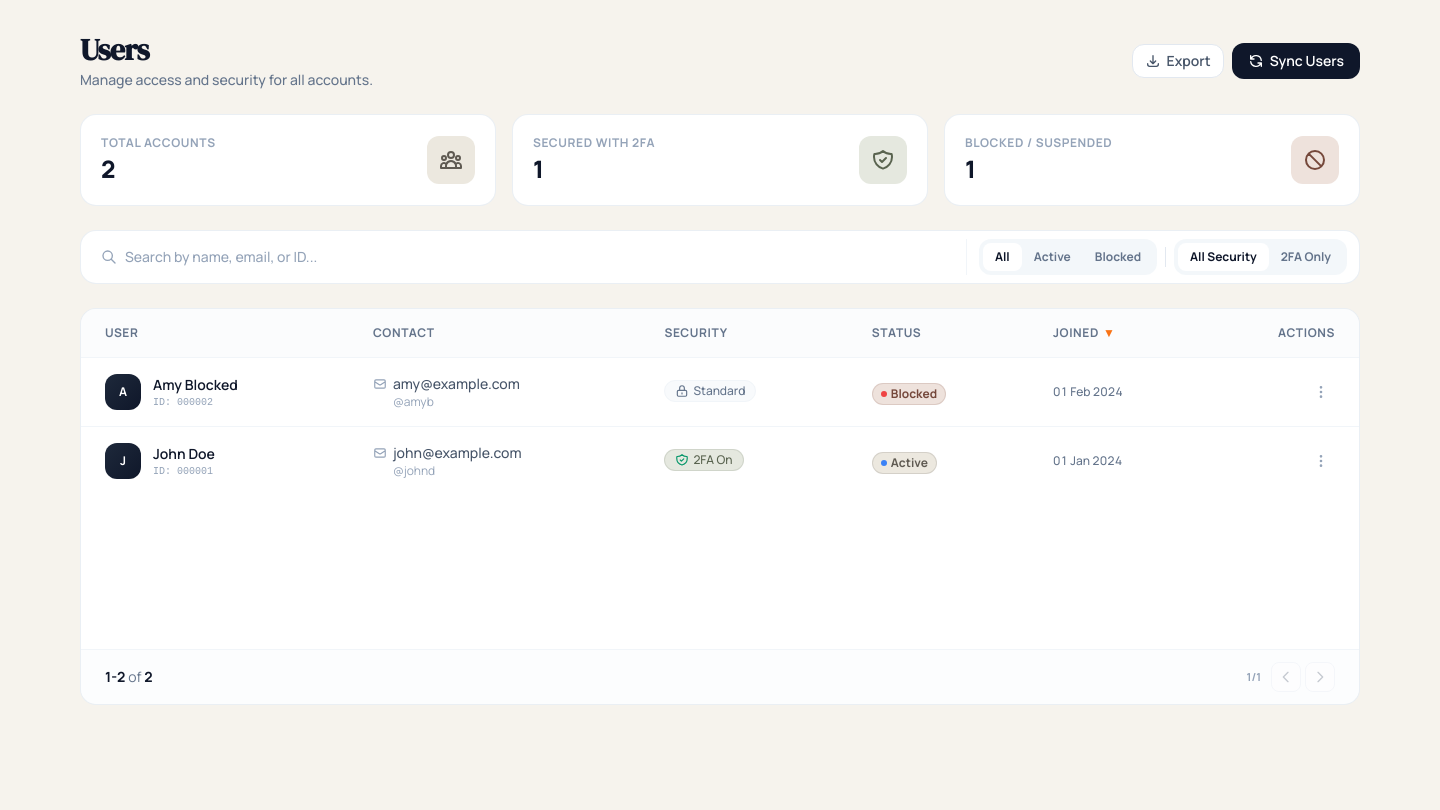
Test: AdminUsers Component › shows an error toast when the block action fails
Step 1. Click the button without text in the row of "John Doe" → (1321, 461), box 1307,447 -> 1335,475
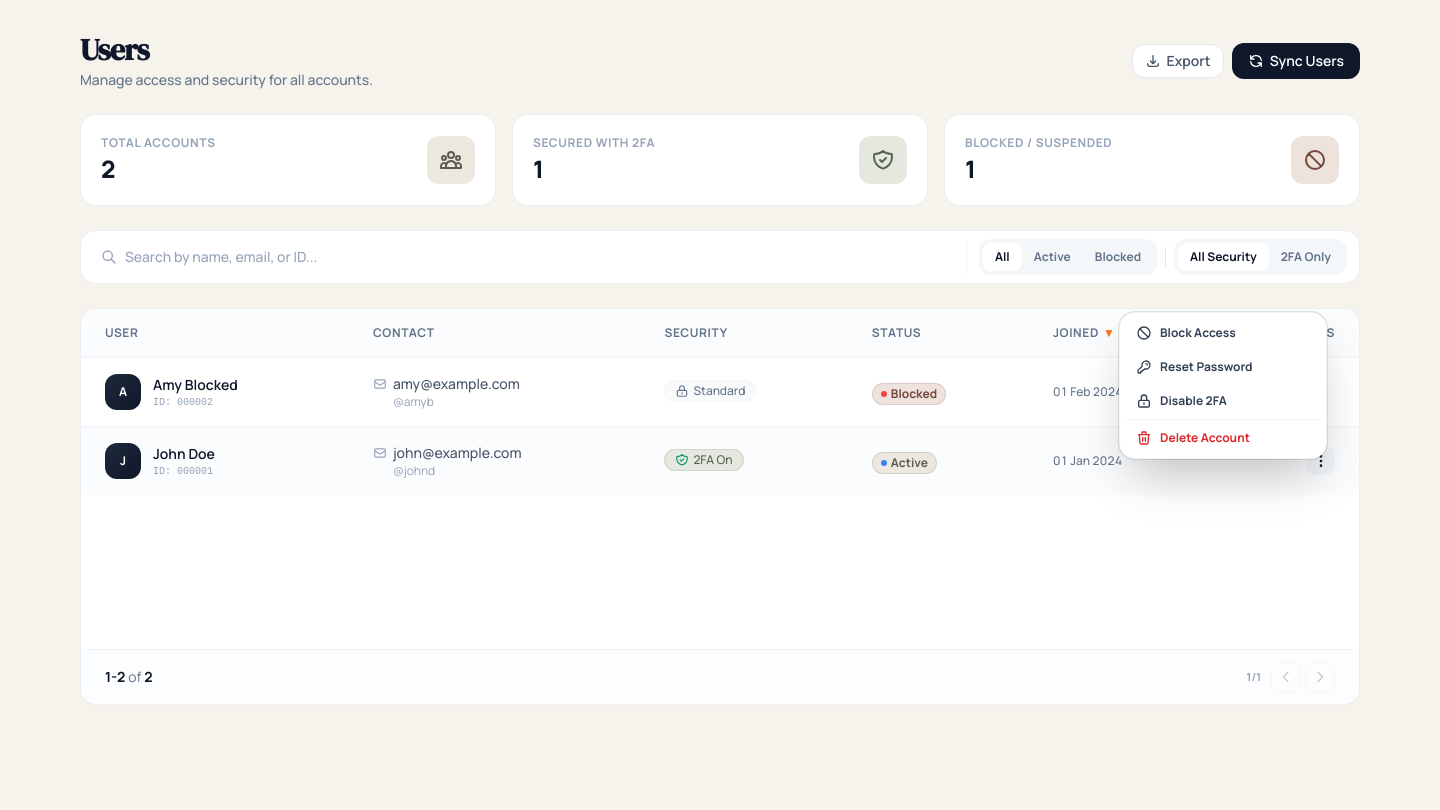
Step 2. Click the button "Block Access" → (1223, 333), box 1124,317 -> 1322,349
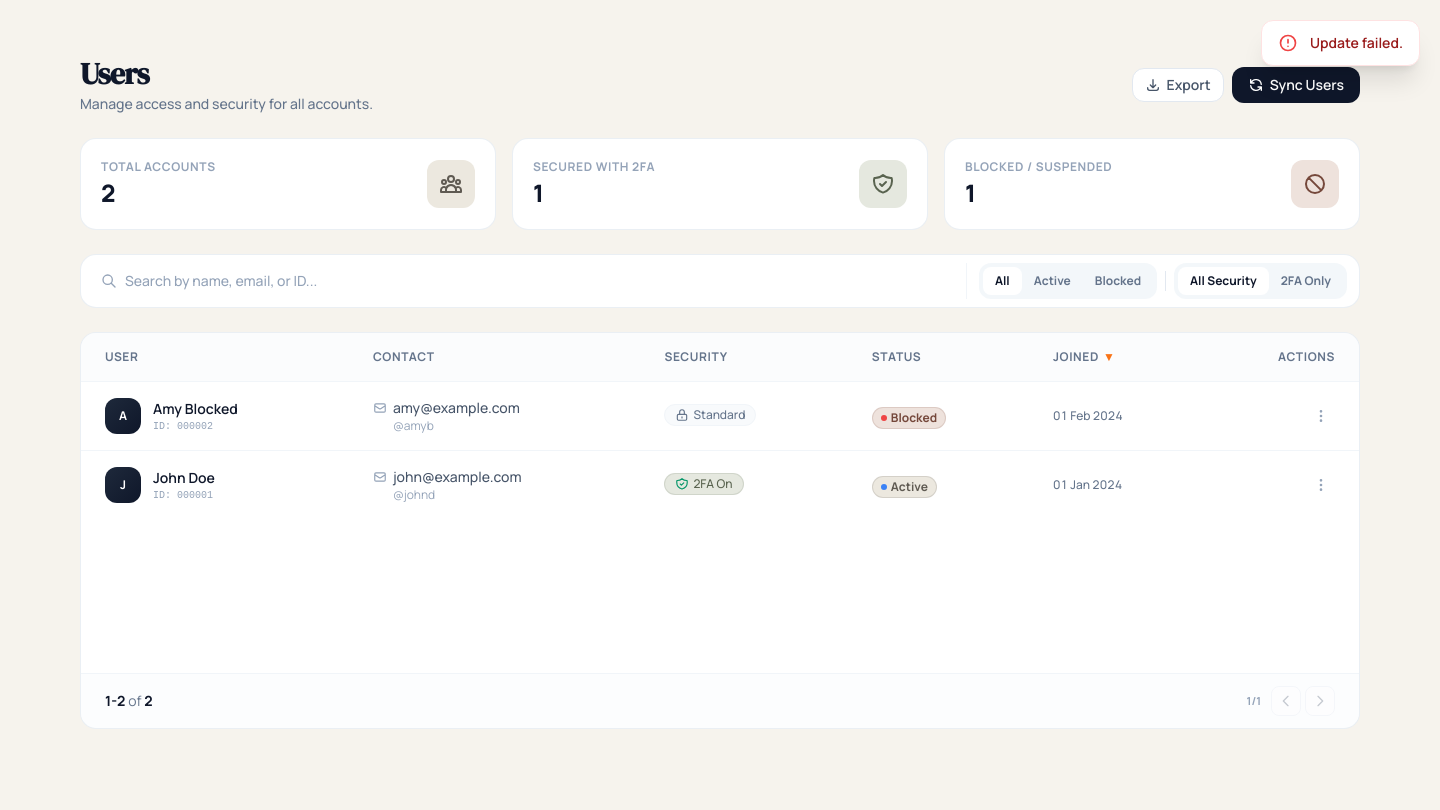
Check: the text "Update failed." is shown, box 1310,33 -> 1403,53
